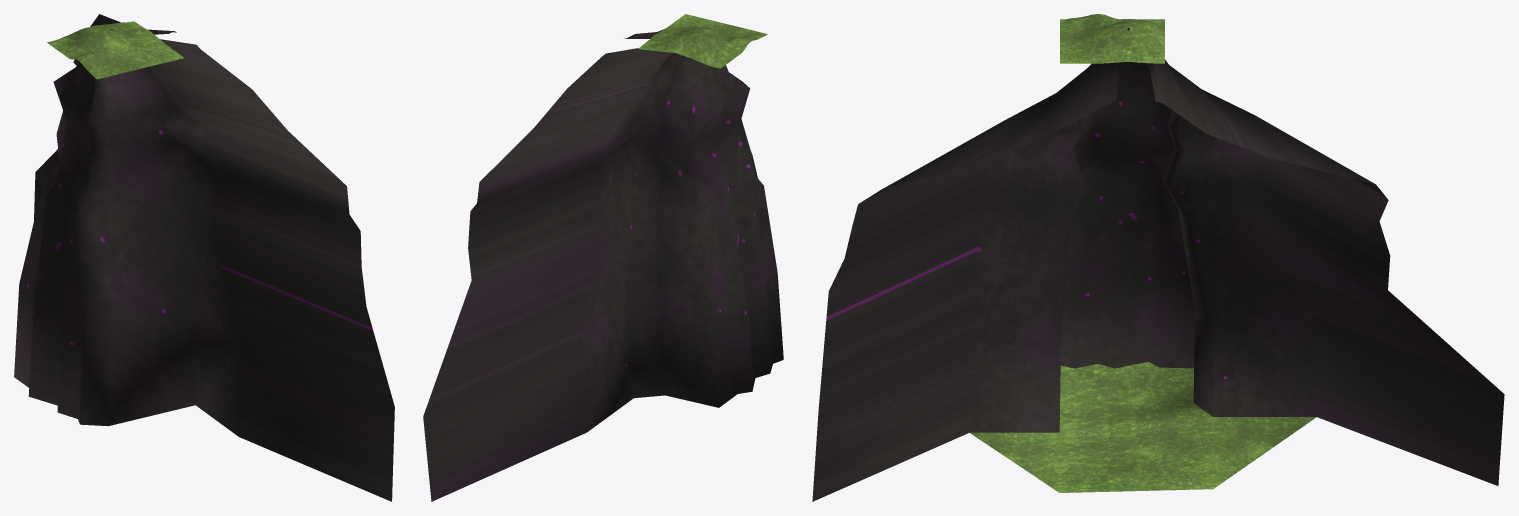
The model's file is Hole_and_hill.fbx.
3 views of the same model, side by side, from view 1: azimuth 30°, elevation 25°; view 2: azimuth 150°, elevation 25°; view 3: azimuth 270°, elevation 25° (orthographic). The views are drawn at different scales.
Parts seen in each view (by area): view 1: Plane; view 2: Plane; view 3: Plane.
Part boxes in pixels (box(x1,y1,x2,y2)): Plane: box(14, 14, 394, 501); Plane: box(423, 14, 783, 501); Plane: box(812, 14, 1504, 501).
Bounding box in the file's own units: 55547 × 85780 × 131777.
